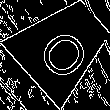O_NE: (30, 13, 95, 79)
